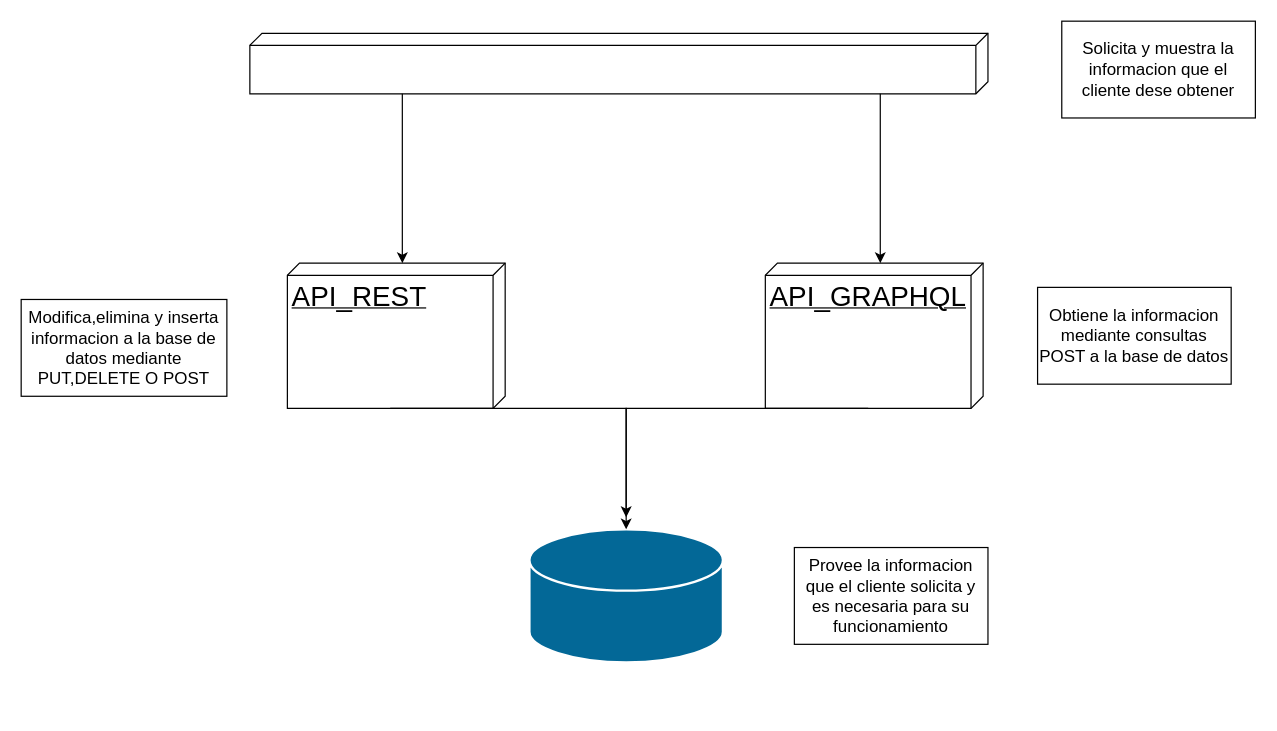
Image size: 1277x731. Some labels were removed from this diagram. Each missing label, with the centre of its shape:
"Cliente-Interfaz" belongs at (618,63).
"MongoDB" belongs at (626,595).
